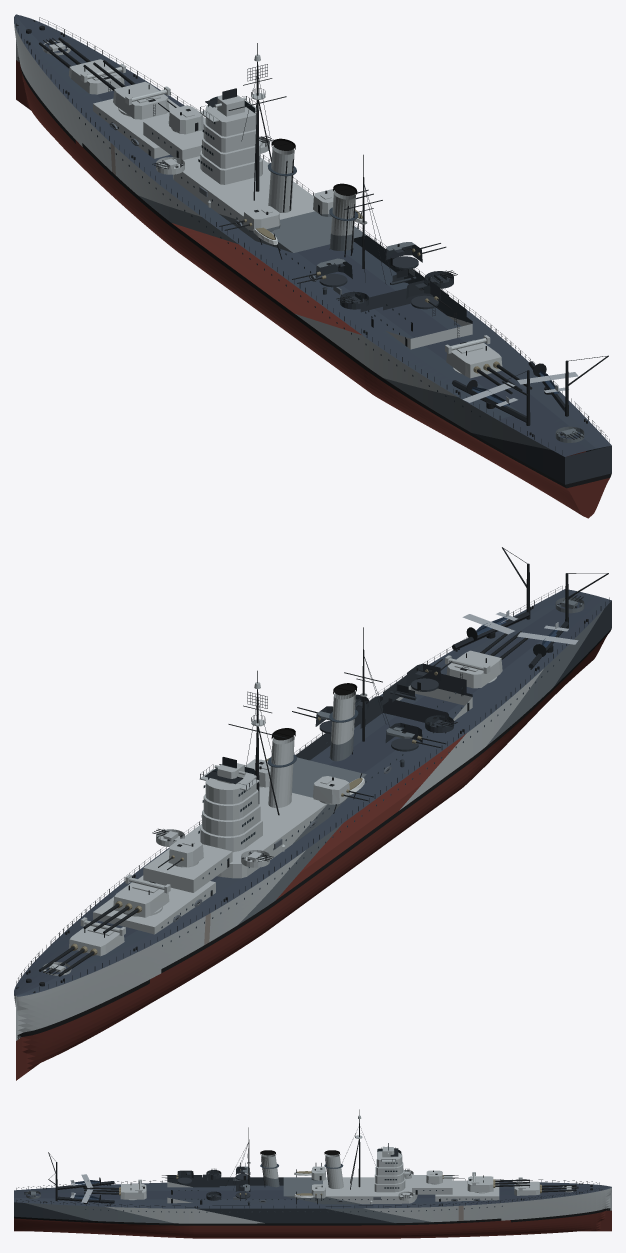
Rendered from baltimore_m22.glb.
3 renders of one model, top to bottom at view 1: azimuth 30°, elevation 25°; view 2: azimuth 150°, elevation 25°; view 3: azimuth 270°, elevation 25°, orthographic. The views are drawn at different scales.
Visible parts, largest first — view 1: Hull, Turret2, Turret3, Turret1, Mount55, Mount56, Mount54, Mount51, Mount52, Float2; view 2: Hull, Turret2, Turret3, Turret1, Mount54, Mount56, Mount51, Mount52; view 3: Hull, Turret2, Turret3, Turret1, Mount51, Mount52, Mount54, Mount53, Mount55, Mount56, Float1.
Part boxes in pixels (bbox=[...]): Hull: bbox=[14, 14, 611, 518]; Turret2: bbox=[83, 60, 170, 119]; Turret3: bbox=[445, 335, 532, 394]; Turret1: bbox=[39, 37, 125, 94]; Mount55: bbox=[385, 242, 446, 269]; Mount56: bbox=[292, 258, 352, 287]; Mount54: bbox=[219, 205, 280, 233]; Mount51: bbox=[158, 100, 203, 134]; Mount52: bbox=[406, 280, 452, 311]; Float2: bbox=[462, 380, 517, 406]; Hull: bbox=[14, 547, 611, 1080]; Turret2: bbox=[83, 874, 170, 933]; Turret3: bbox=[445, 629, 528, 688]; Turret1: bbox=[39, 917, 125, 976]; Mount54: bbox=[313, 776, 373, 804]; Mount56: bbox=[385, 723, 446, 751]; Mount51: bbox=[158, 838, 203, 869]; Mount52: bbox=[406, 659, 452, 691]; Hull: bbox=[14, 1109, 611, 1238]; Turret2: bbox=[467, 1172, 529, 1193]; Turret3: bbox=[84, 1179, 146, 1200]; Turret1: bbox=[514, 1177, 576, 1195]; Mount51: bbox=[426, 1170, 458, 1184]; Mount52: bbox=[162, 1170, 193, 1184]; Mount54: bbox=[311, 1163, 325, 1180]; Mount53: bbox=[311, 1184, 325, 1200]; Mount55: bbox=[235, 1184, 250, 1200]; Mount56: bbox=[235, 1162, 250, 1180]; Float1: bbox=[70, 1189, 100, 1202].
Bounding box in the file's own units: 30.8 × 46.18 × 205.
